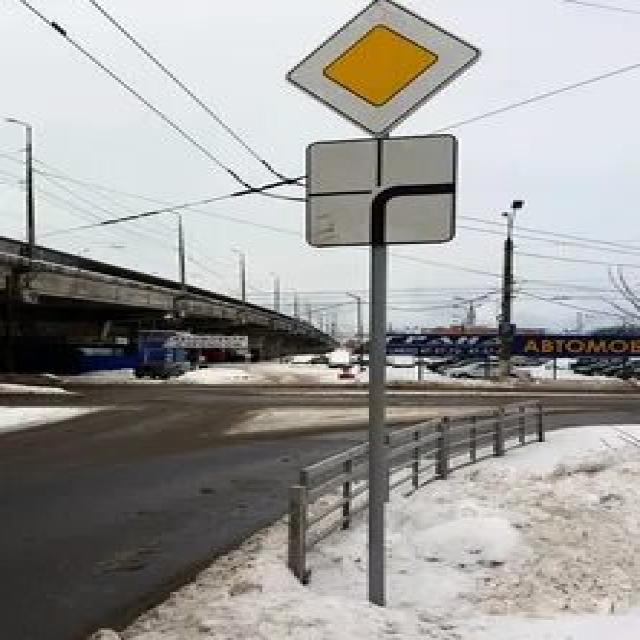signs: (281, 0, 485, 135)
